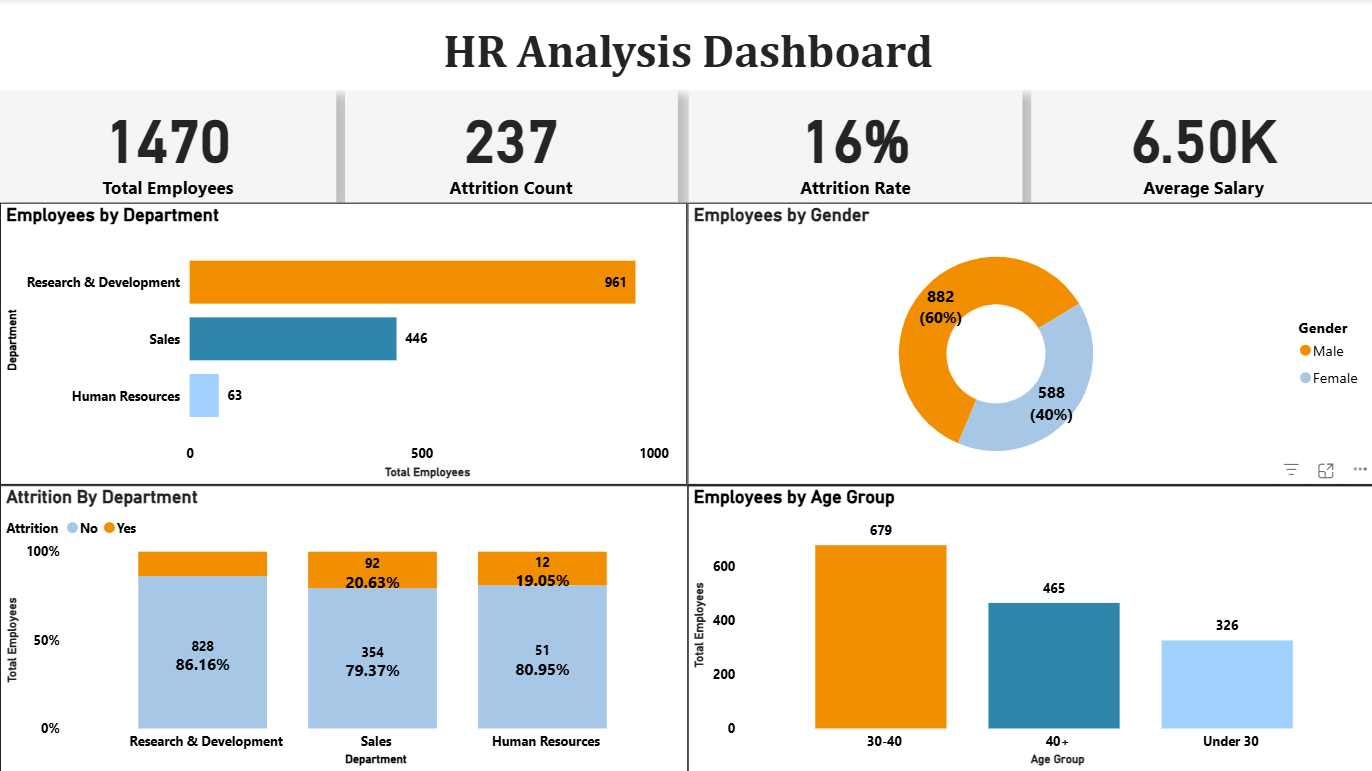

The page's visual inventory and layout, read from the dashboard file:
{"tool":"powerbi","page":{"name":"HR Overview","canvas":[1280,720],"ordinal":0},"visuals":[{"type":"card","fields":{"Values":["HR.Total Employees"]},"box":[0,83.7,312.8,105.8],"z":0},{"type":"card","fields":{"Values":["HR.Attrition Count"]},"box":[320.9,83.7,309.3,105.8],"z":1000},{"type":"card","fields":{"Values":["HR.Attrition Rate"]},"box":[640.7,83.7,310.5,105.8],"z":2000},{"type":"card","fields":{"Values":["HR.Average Salary"]},"box":[959.3,83.7,320.9,105.8],"z":3000},{"type":"clusteredBarChart","title":"Employees by Department","fields":{"Category":["HR.Department"],"Y":["HR.Total Employees"]},"box":[0,189.5,639.5,262.8],"z":4000},{"type":"hundredPercentStackedColumnChart","title":"Attrition By Department","fields":{"Category":["HR.Department"],"Y":["HR.Total Employees"],"Series":["HR.Attrition"]},"box":[0,452.3,640.7,267.4],"z":5000},{"type":"donutChart","title":"Employees by Gender","fields":{"Category":["HR.Gender"],"Y":["HR.Total Employees"]},"box":[639.5,189.5,640.7,262.8],"z":6000},{"type":"columnChart","title":"Employees by Age Group","fields":{"Y":["HR.Total Employees"],"Category":["HR.Age Group"]},"box":[639.5,452.3,640.7,267.4],"z":7000},{"type":"textbox","box":[0,0,1280.2,84.9],"z":8000}]}

Visuals, with their boxes in screenshot pixels (x1, y1, x2, y2), scaled from the page's 1280x720 canvas onto the 1372x771 screenshot:
card - HR.Total Employees: rect(0, 90, 335, 203)
card - HR.Attrition Count: rect(344, 90, 675, 203)
card - HR.Attrition Rate: rect(687, 90, 1020, 203)
card - HR.Average Salary: rect(1028, 90, 1371, 203)
"Employees by Department" clusteredBarChart: rect(0, 203, 685, 484)
"Attrition By Department" hundredPercentStackedColumnChart: rect(0, 484, 687, 770)
"Employees by Gender" donutChart: rect(685, 203, 1371, 484)
"Employees by Age Group" columnChart: rect(685, 484, 1371, 770)
textbox: rect(0, 0, 1371, 91)
